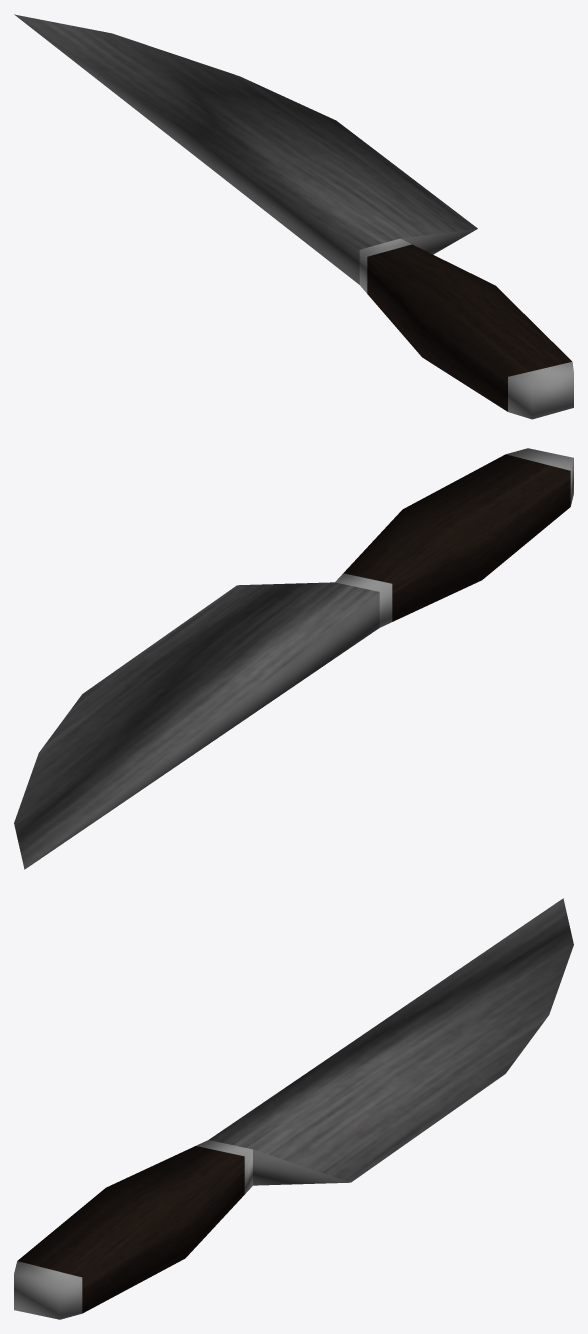
File: Knife_Chefs.fbx
3 views of the same model, one above another, from view 1: azimuth 30°, elevation 25°; view 2: azimuth 150°, elevation 25°; view 3: azimuth 330°, elevation 25° (orthographic). The views are drawn at different scales.
Visible parts, largest first — view 1: Plane.001; view 2: Plane.001; view 3: Plane.001.
Boxes of the visible parts, x1,y1,x2,y2 form: Plane.001: (14,14,573,419); Plane.001: (14,448,573,869); Plane.001: (14,898,573,1319).
Size of the model in its own units: 17.77 by 5.81 by 107.
